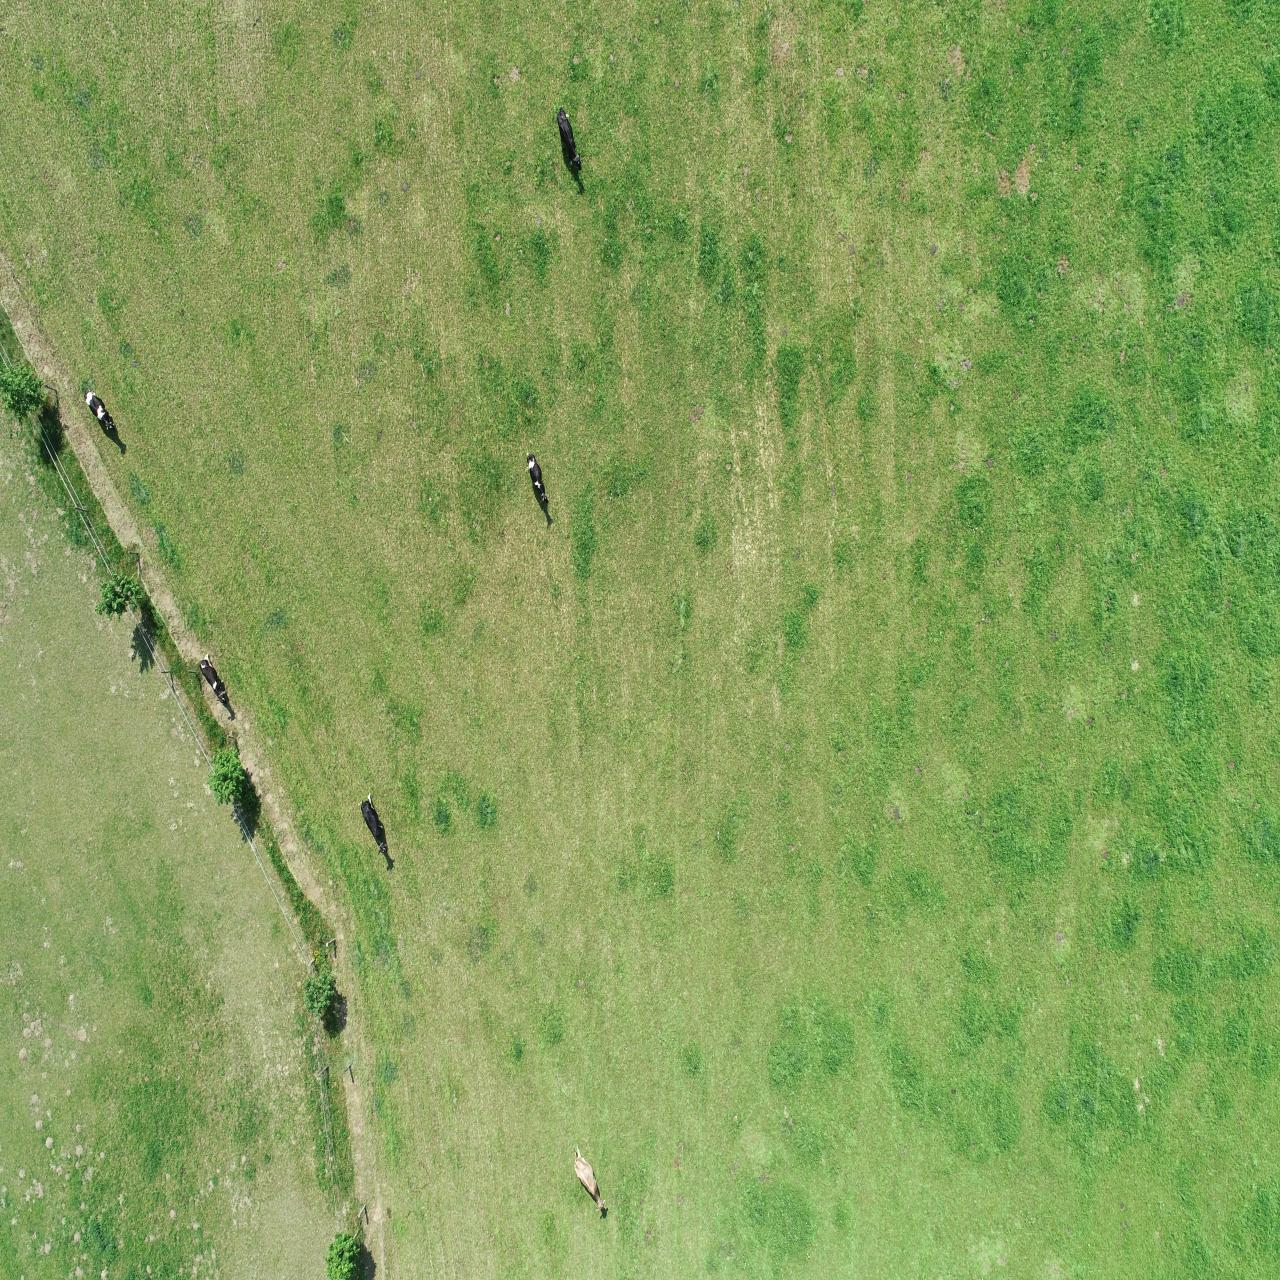cow: (570, 1144, 607, 1214), (356, 791, 388, 856), (554, 107, 584, 172), (196, 652, 230, 706), (81, 388, 117, 433), (524, 451, 551, 505)
